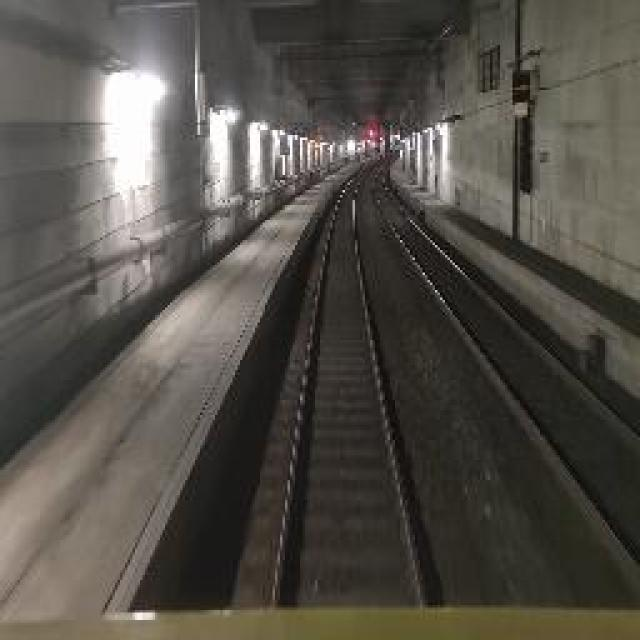rail: (246, 168, 465, 609)
